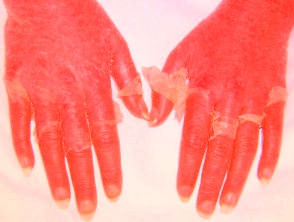SJS-TEN: (140, 0, 294, 222), (0, 0, 151, 222)
